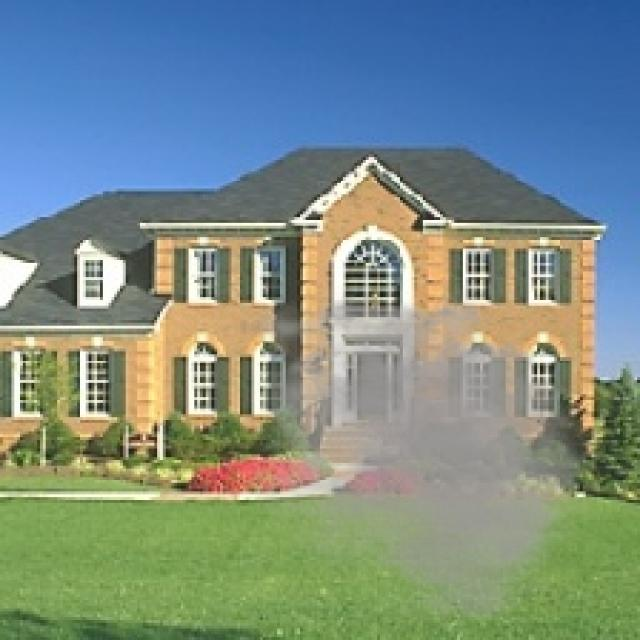smoke: (231, 277, 606, 632)
